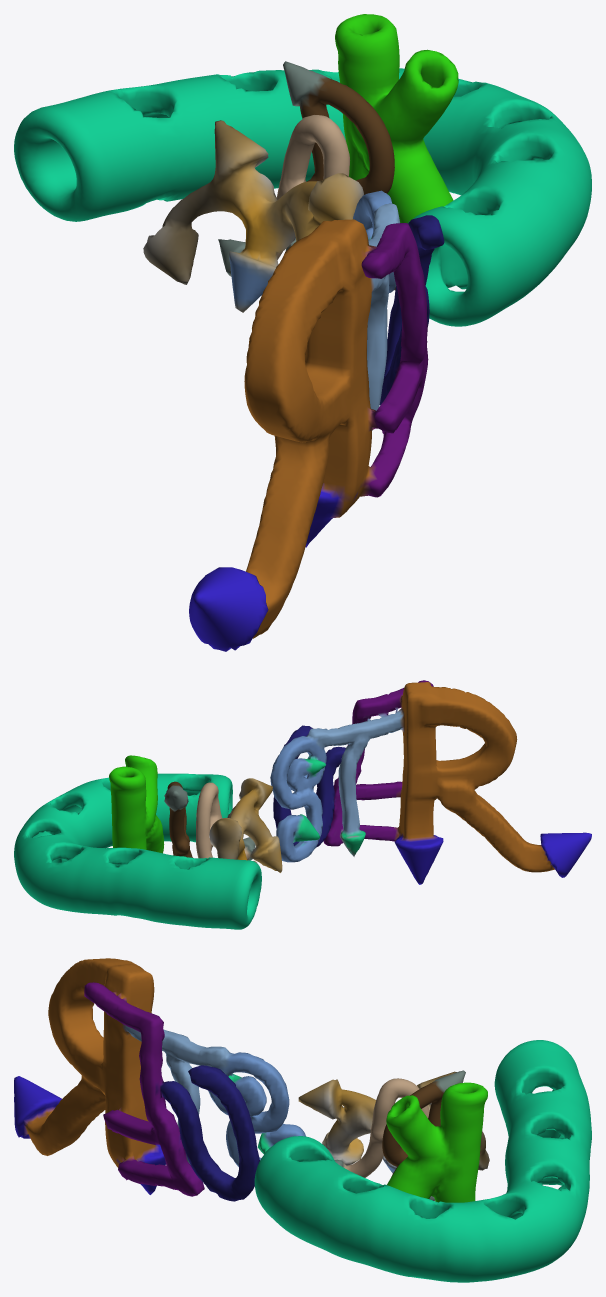
Rendered from noodlefbx.fbx.
3 renders of one model, top to bottom at view 1: azimuth 30°, elevation 25°; view 2: azimuth 150°, elevation 25°; view 3: azimuth 270°, elevation 25°, orthographic. The views are drawn at different scales.
Parts seen in each view (by area): view 1: ReferenceModel_Selection_1; view 2: ReferenceModel_Selection_1; view 3: ReferenceModel_Selection_1.
Part boxes in pixels (x1,y1,x2,y2): ReferenceModel_Selection_1: (14,14,591,651); ReferenceModel_Selection_1: (14,680,591,929); ReferenceModel_Selection_1: (14,958,591,1282).
Size of the model in its own units: 45.65 by 21.56 by 48.2.
